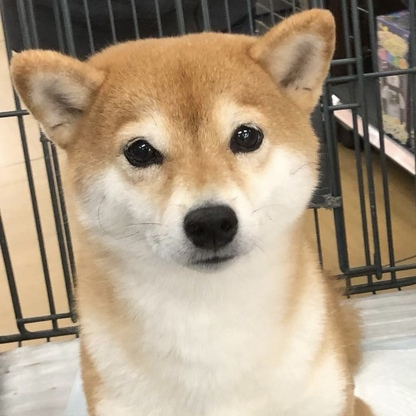shiba: (7, 2, 376, 416)
